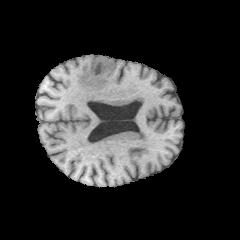glioma: (78, 56, 116, 91)
